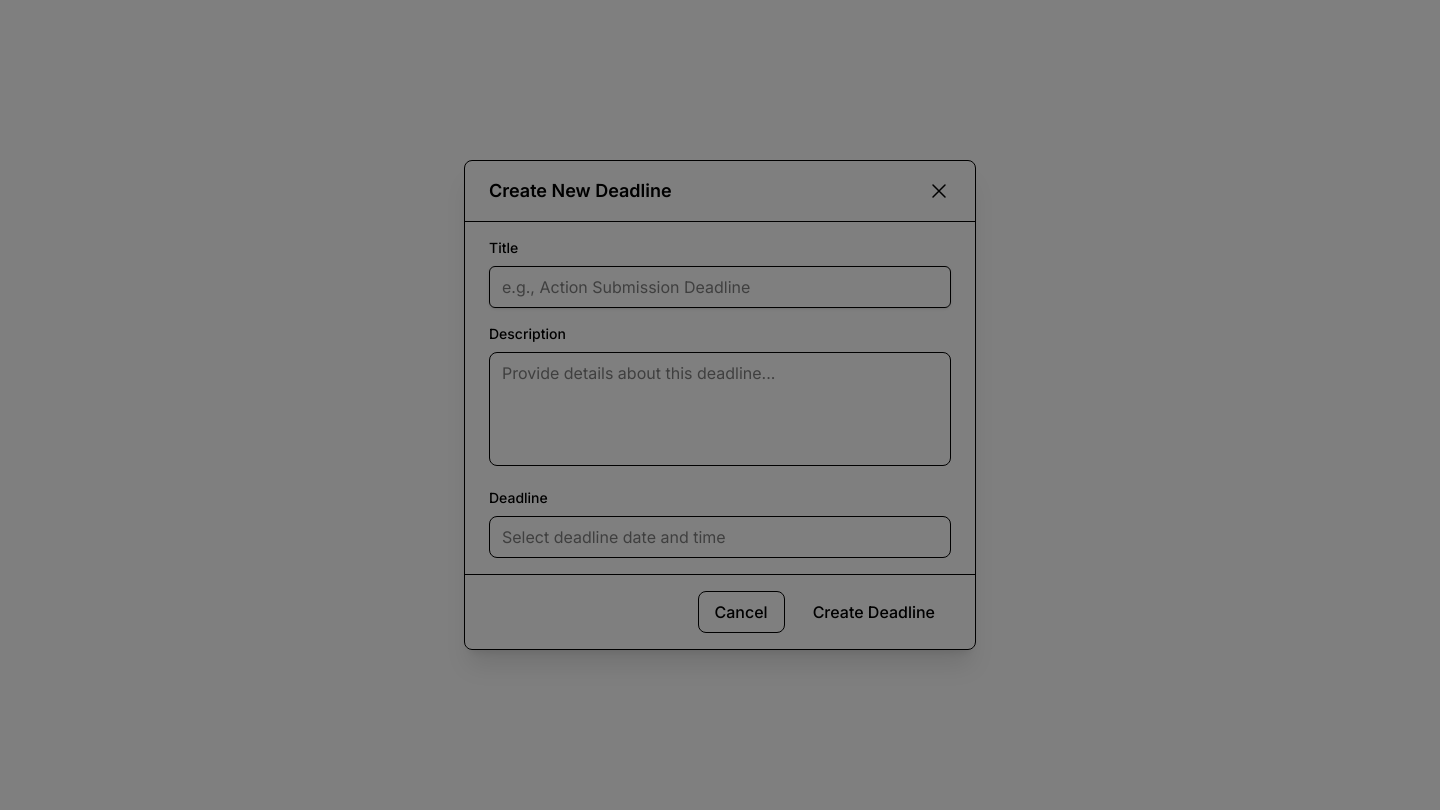
it: CreateDeadlineModal › Form validation › should show error when deadline is empty
The width and height of the screenshot is (1440, 810).
In the field labelled "Title": (720, 287) x1=489 y1=266 x2=951 y2=308, type "Test Deadline"
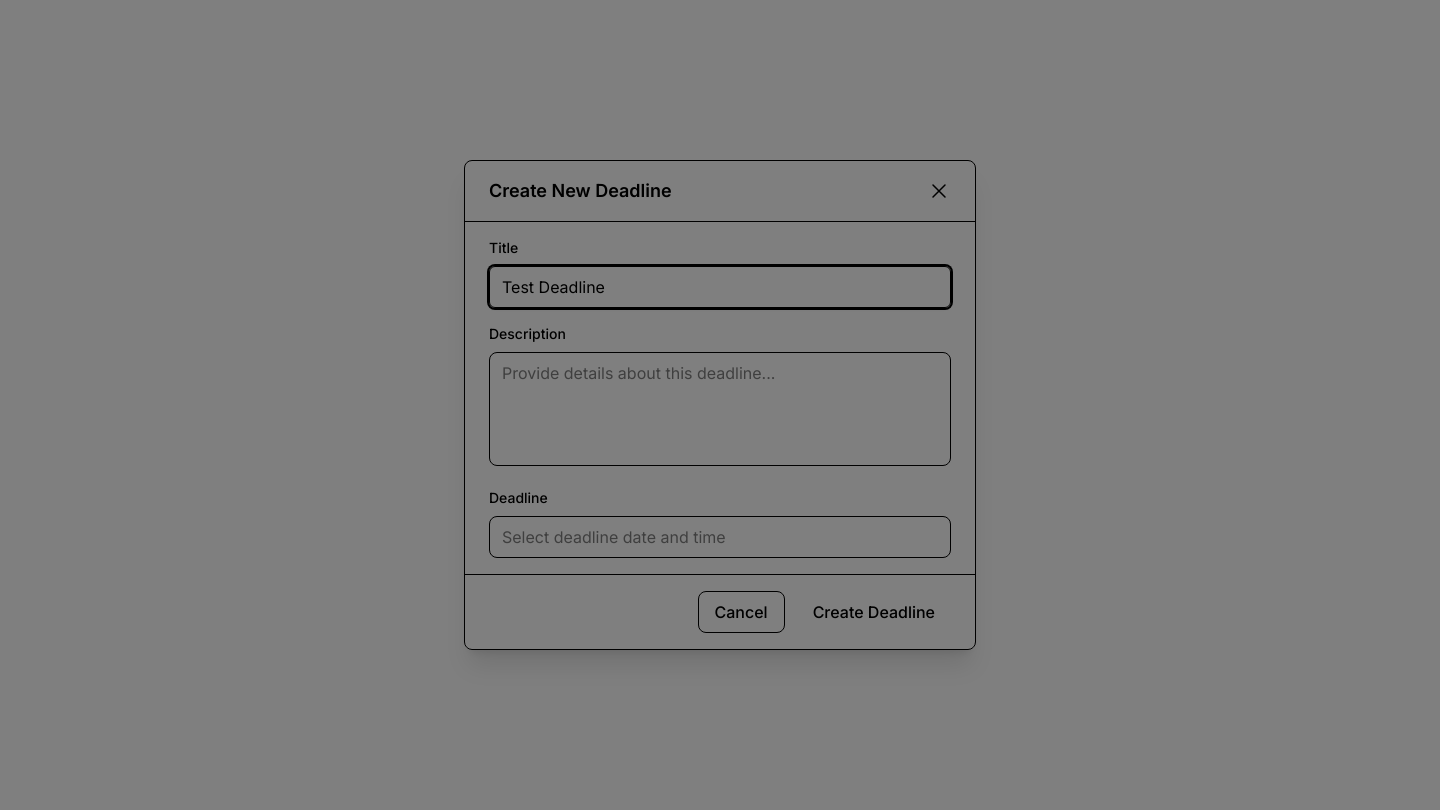
In the text box labelled "Description": (720, 409) x1=489 y1=352 x2=951 y2=466, type "Test description"
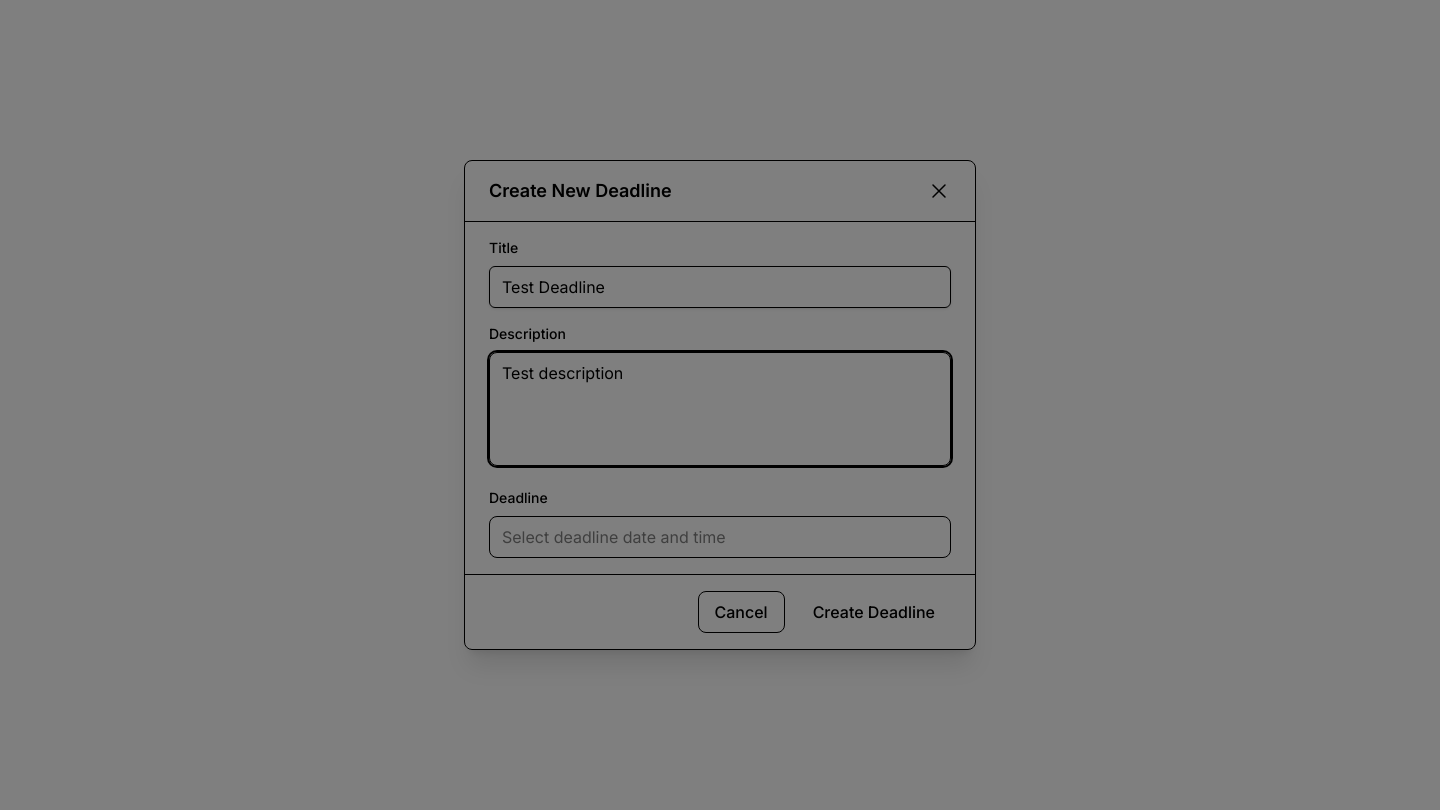
Click the button "Create Deadline": click(874, 612) x1=797 y1=592 x2=951 y2=632
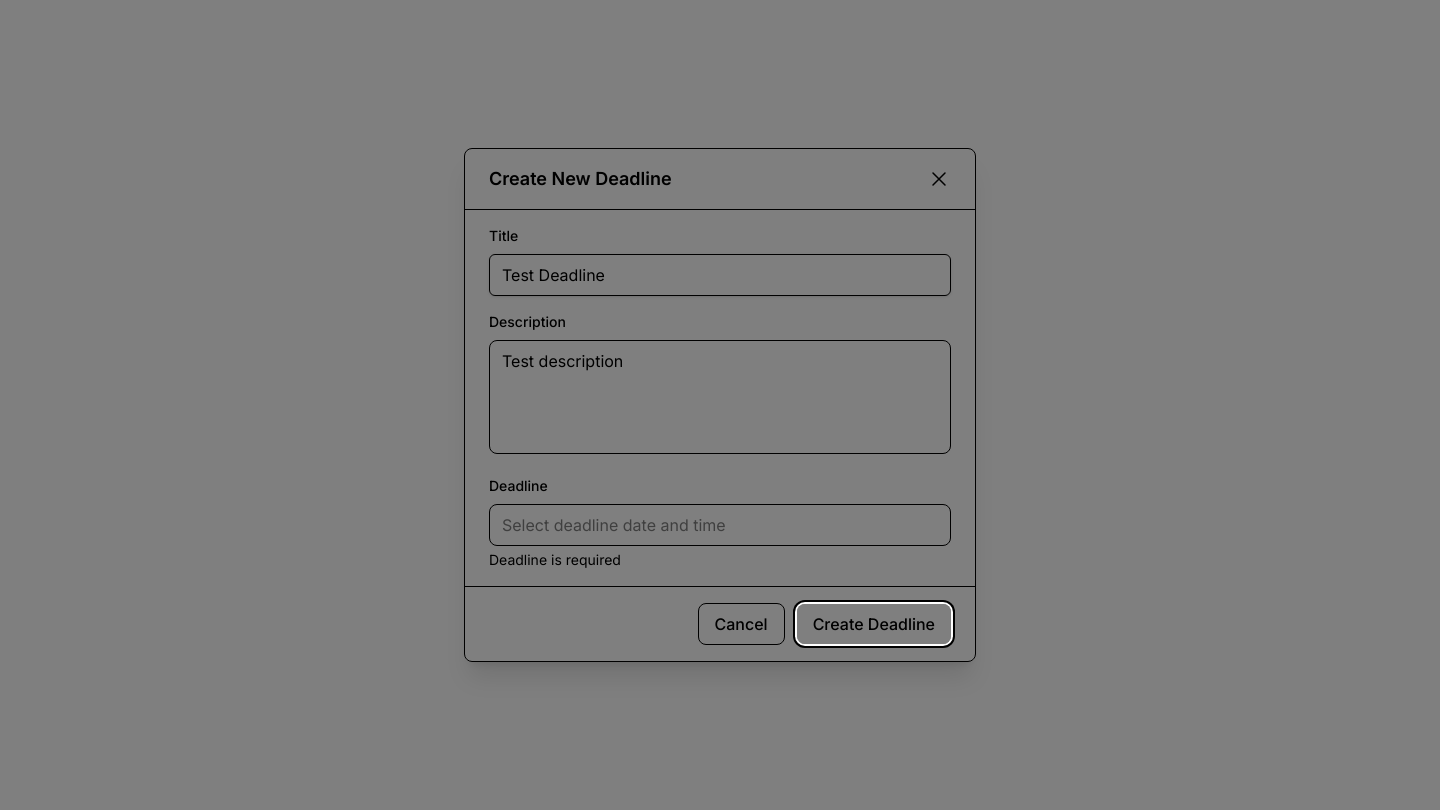
Check: the text "Deadline is required" is shown, box x1=489 y1=551 x2=621 y2=568
